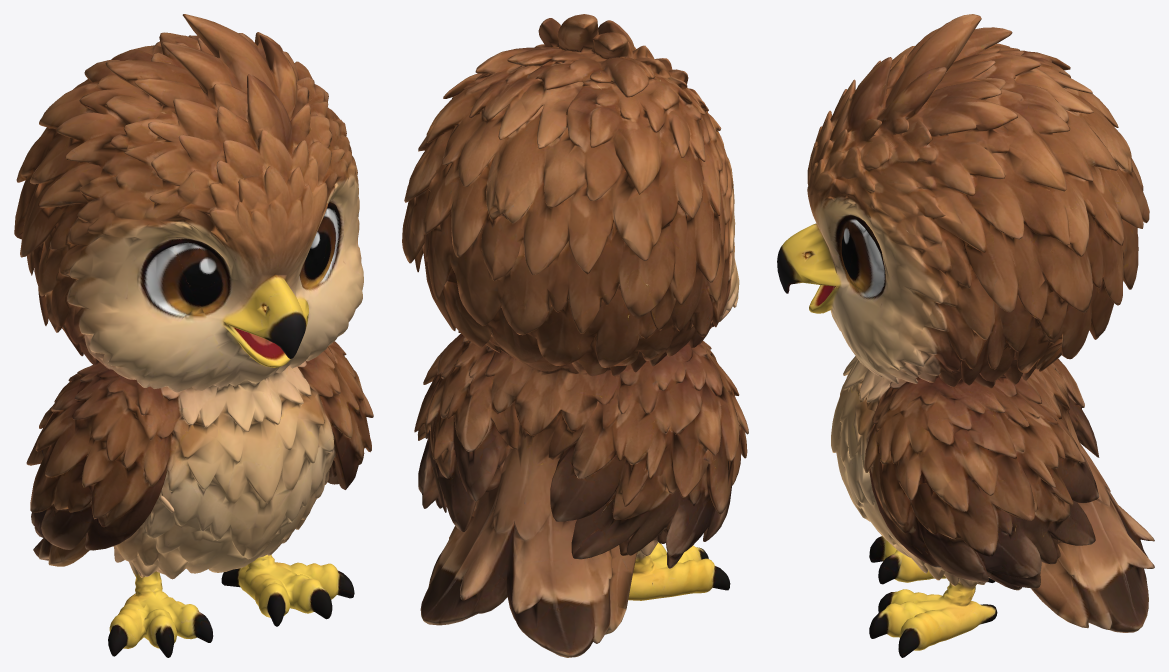
Rendered from kite_v1_hd.glb.
3 views of the same model, side by side, from view 1: azimuth 30°, elevation 25°; view 2: azimuth 150°, elevation 25°; view 3: azimuth 270°, elevation 25° (orthographic). The views are drawn at different scales.
Bounding box in the file's own units: 1.07 × 1.9 × 1.12.
1 material, 1 textured.
